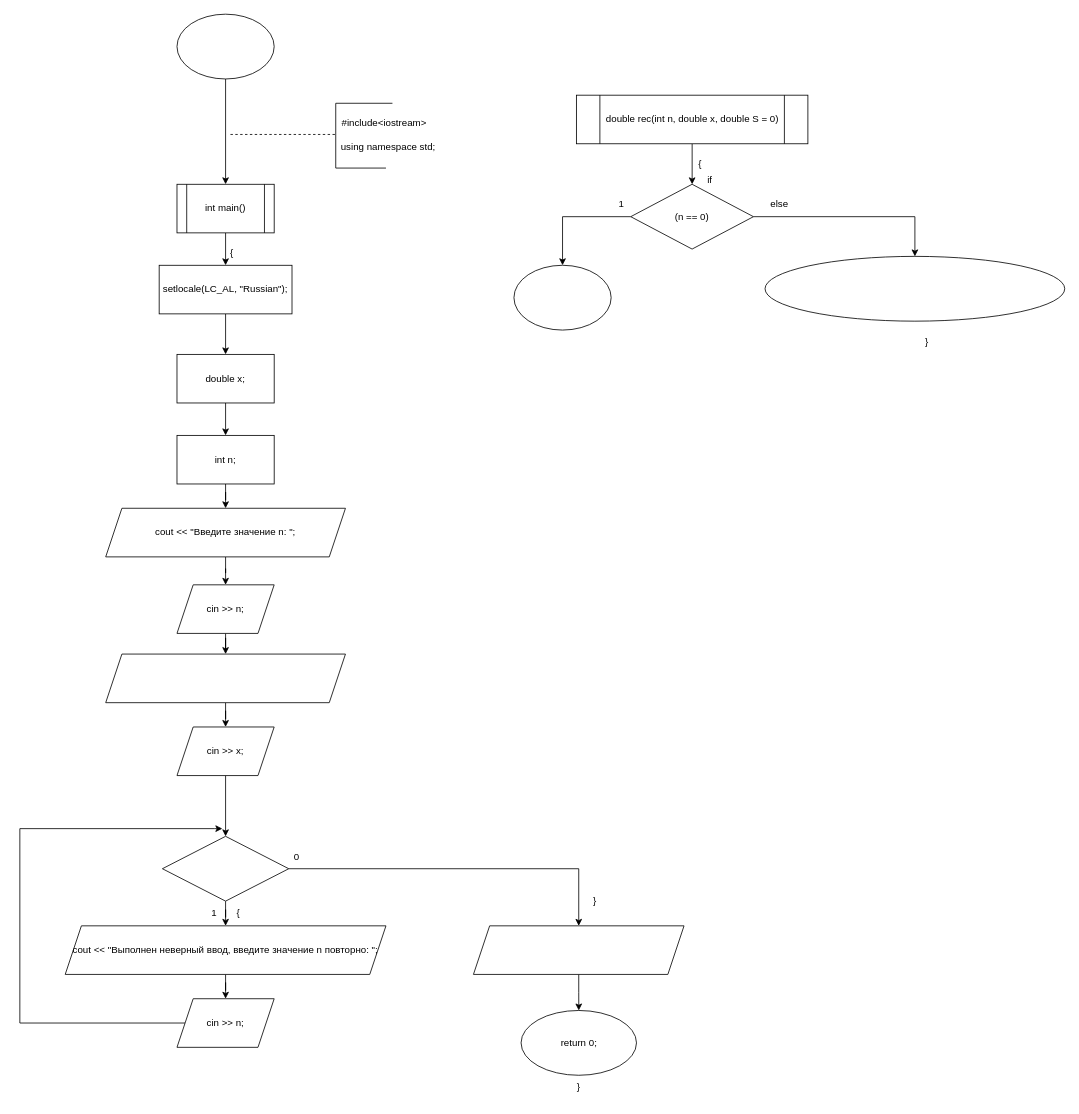
Some shapes in this 1079 by 1114 pixel diagram are drawn without their labels. The shapes that lost their labels are listed below. From the top down, each one's box as (x1, y1, x2, y2) in pixels, then its label:
(176, 13, 274, 79): Начало
(513, 264, 611, 330): return S;
(764, 256, 1065, 321): return rec(n - 1, x, S + pow(-1, n) * (pow((1 + x), 2 * n) / n));
(105, 653, 345, 703): cout << "Введите значение x: ";
(162, 836, 289, 901): while(n < 0)
(473, 925, 684, 974): cout << "S = " << rec(n,x) << endl;
